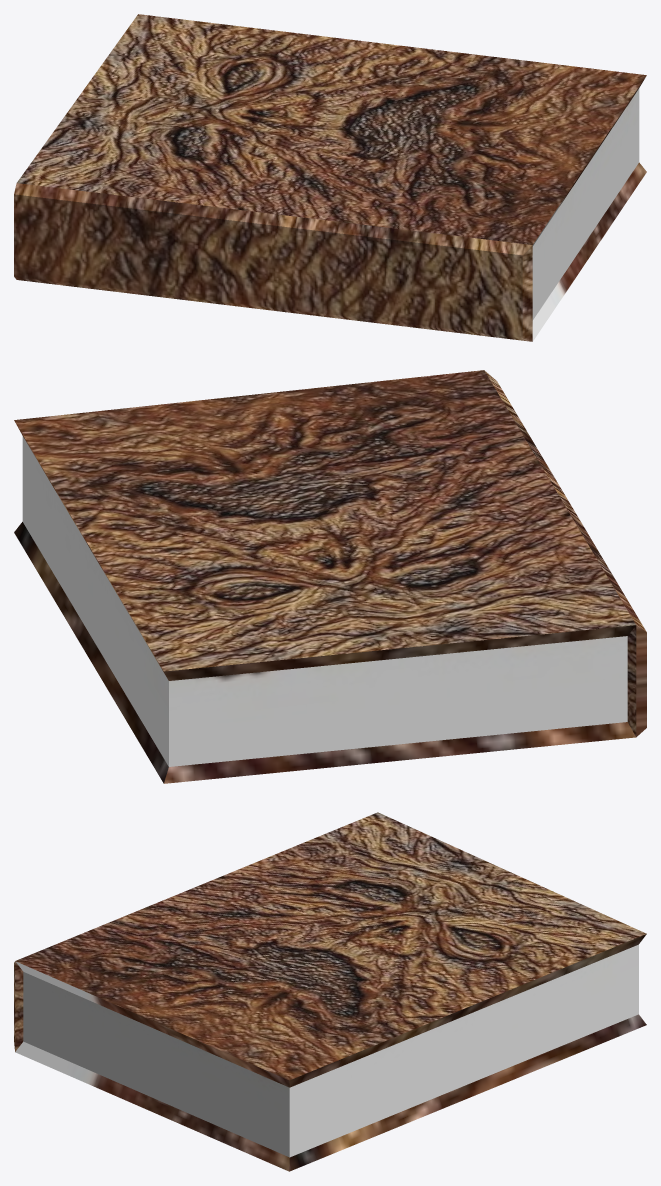
The model's file is Notnecro.glb.
The picture shows the model from 3 angles, top to bottom: view 1: azimuth 30°, elevation 25°; view 2: azimuth 150°, elevation 25°; view 3: azimuth 270°, elevation 25°; orthographic projection. The views are drawn at different scales.
Size of the model in its own units: 2.33 by 0.365 by 2.3.
1 material, 1 textured.
